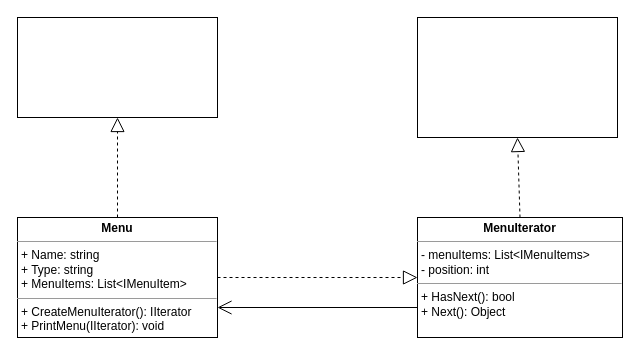
Image size: 640x355. Some labels were removed from this diagram. Here are the shapes that lost their labels. From the top down, the box of each, then its label:
(16, 16, 218, 118): <<Interface>> IMenu + CreateMenuIterator(): IIterator
(416, 16, 618, 138): <<Interface>> IIterator + HasNext(): bool + Next(): Object
